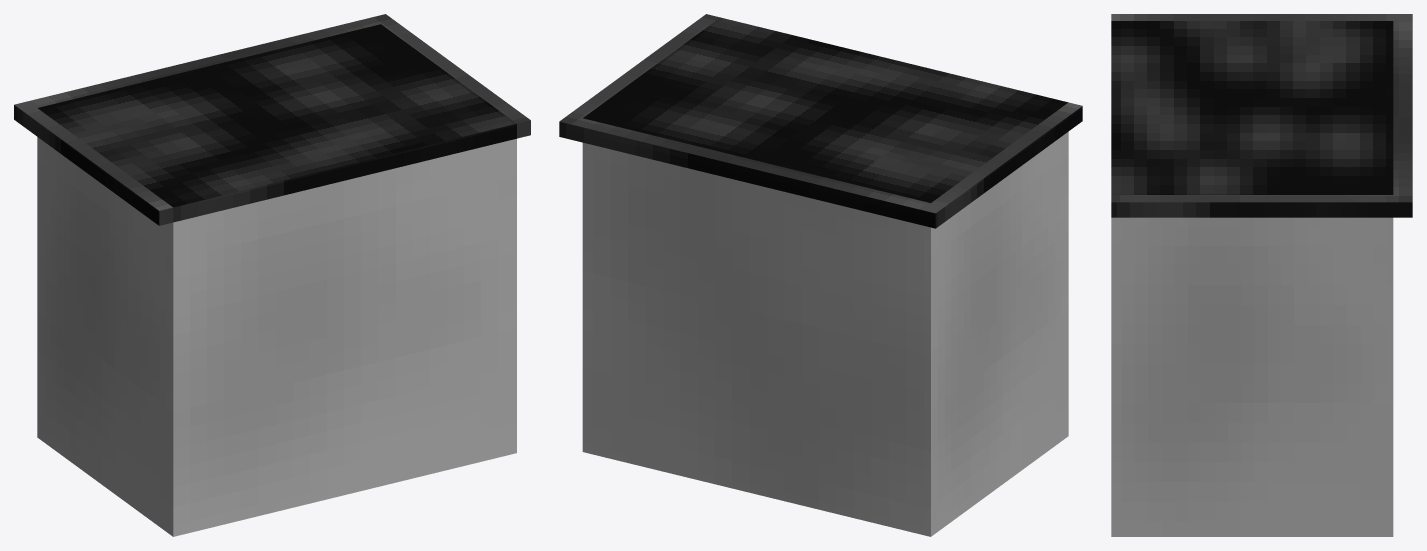
The model's file is plita.fbx.
3 views of the same model, side by side, from view 1: azimuth 30°, elevation 25°; view 2: azimuth 150°, elevation 25°; view 3: azimuth 270°, elevation 25° (orthographic). The views are drawn at different scales.
Visible parts, largest first — view 1: Cube.003; view 2: Cube.003; view 3: Cube.003.
Boxes of the visible parts, x1,y1,x2,y2 form: Cube.003: (14,14,530,536); Cube.003: (559,14,1082,536); Cube.003: (1111,14,1412,536).
Bounding box in the file's own units: 314 × 266 × 213.
